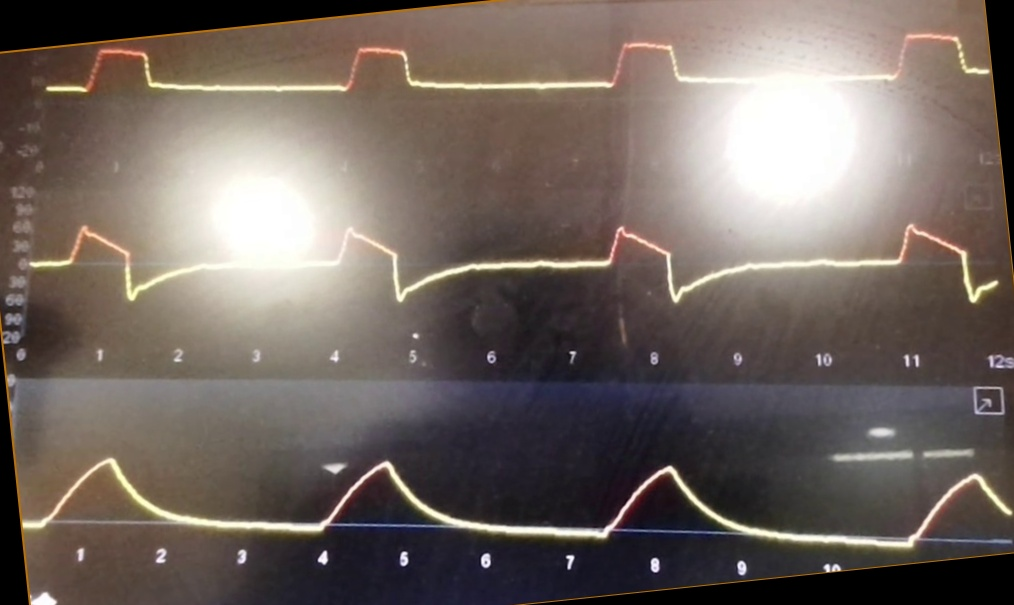Normal Flow: (28, 212, 1004, 320)
Normal Volume: (28, 426, 1014, 553)
